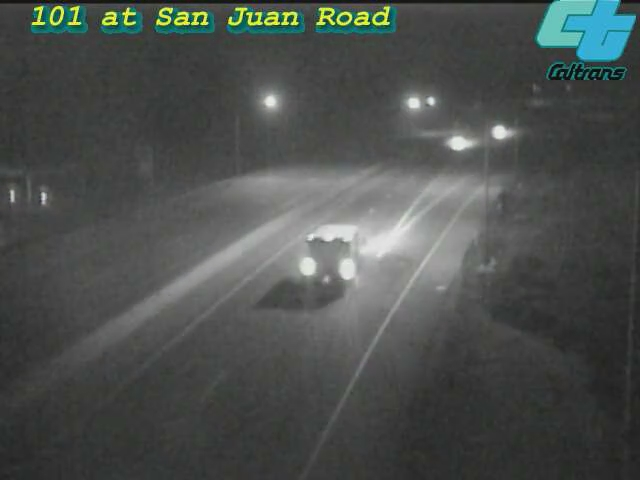vehicle: (293, 218, 373, 298), (473, 108, 523, 158), (431, 118, 481, 168)
